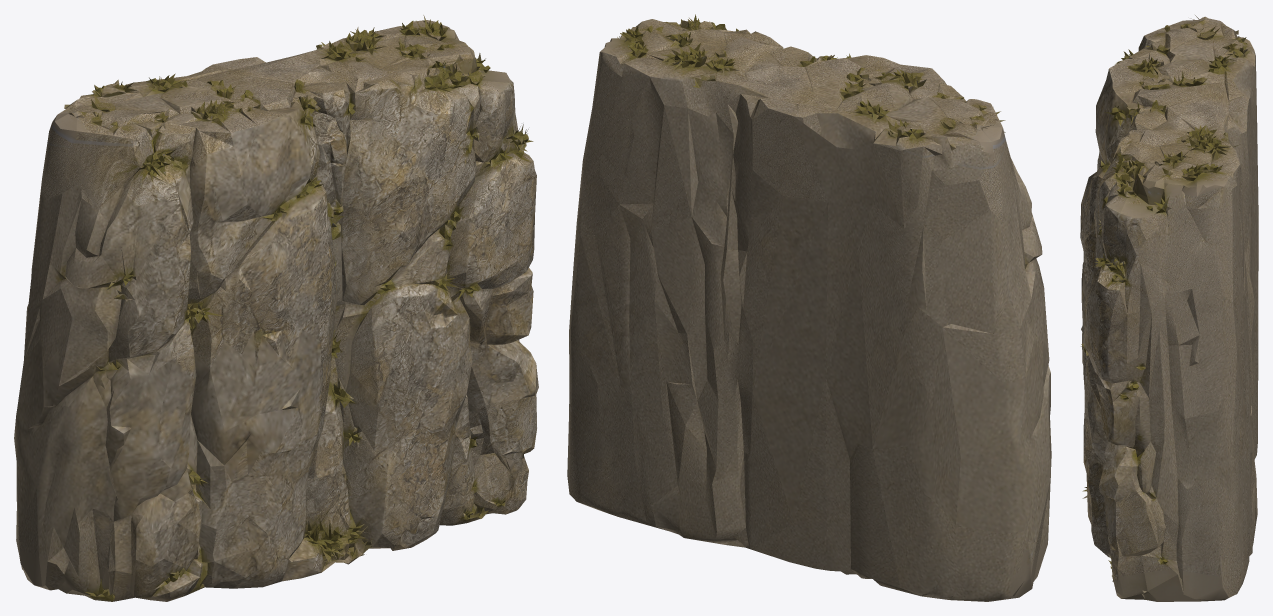
File: pared_grietas.glb
The picture shows the model from 3 angles, left to right: view 1: azimuth 30°, elevation 25°; view 2: azimuth 150°, elevation 25°; view 3: azimuth 270°, elevation 25°; orthographic projection. The views are drawn at different scales.
Size of the model in its own units: 1.9 by 1.81 by 0.6982.
Materials: 1 (1 with a texture image).
